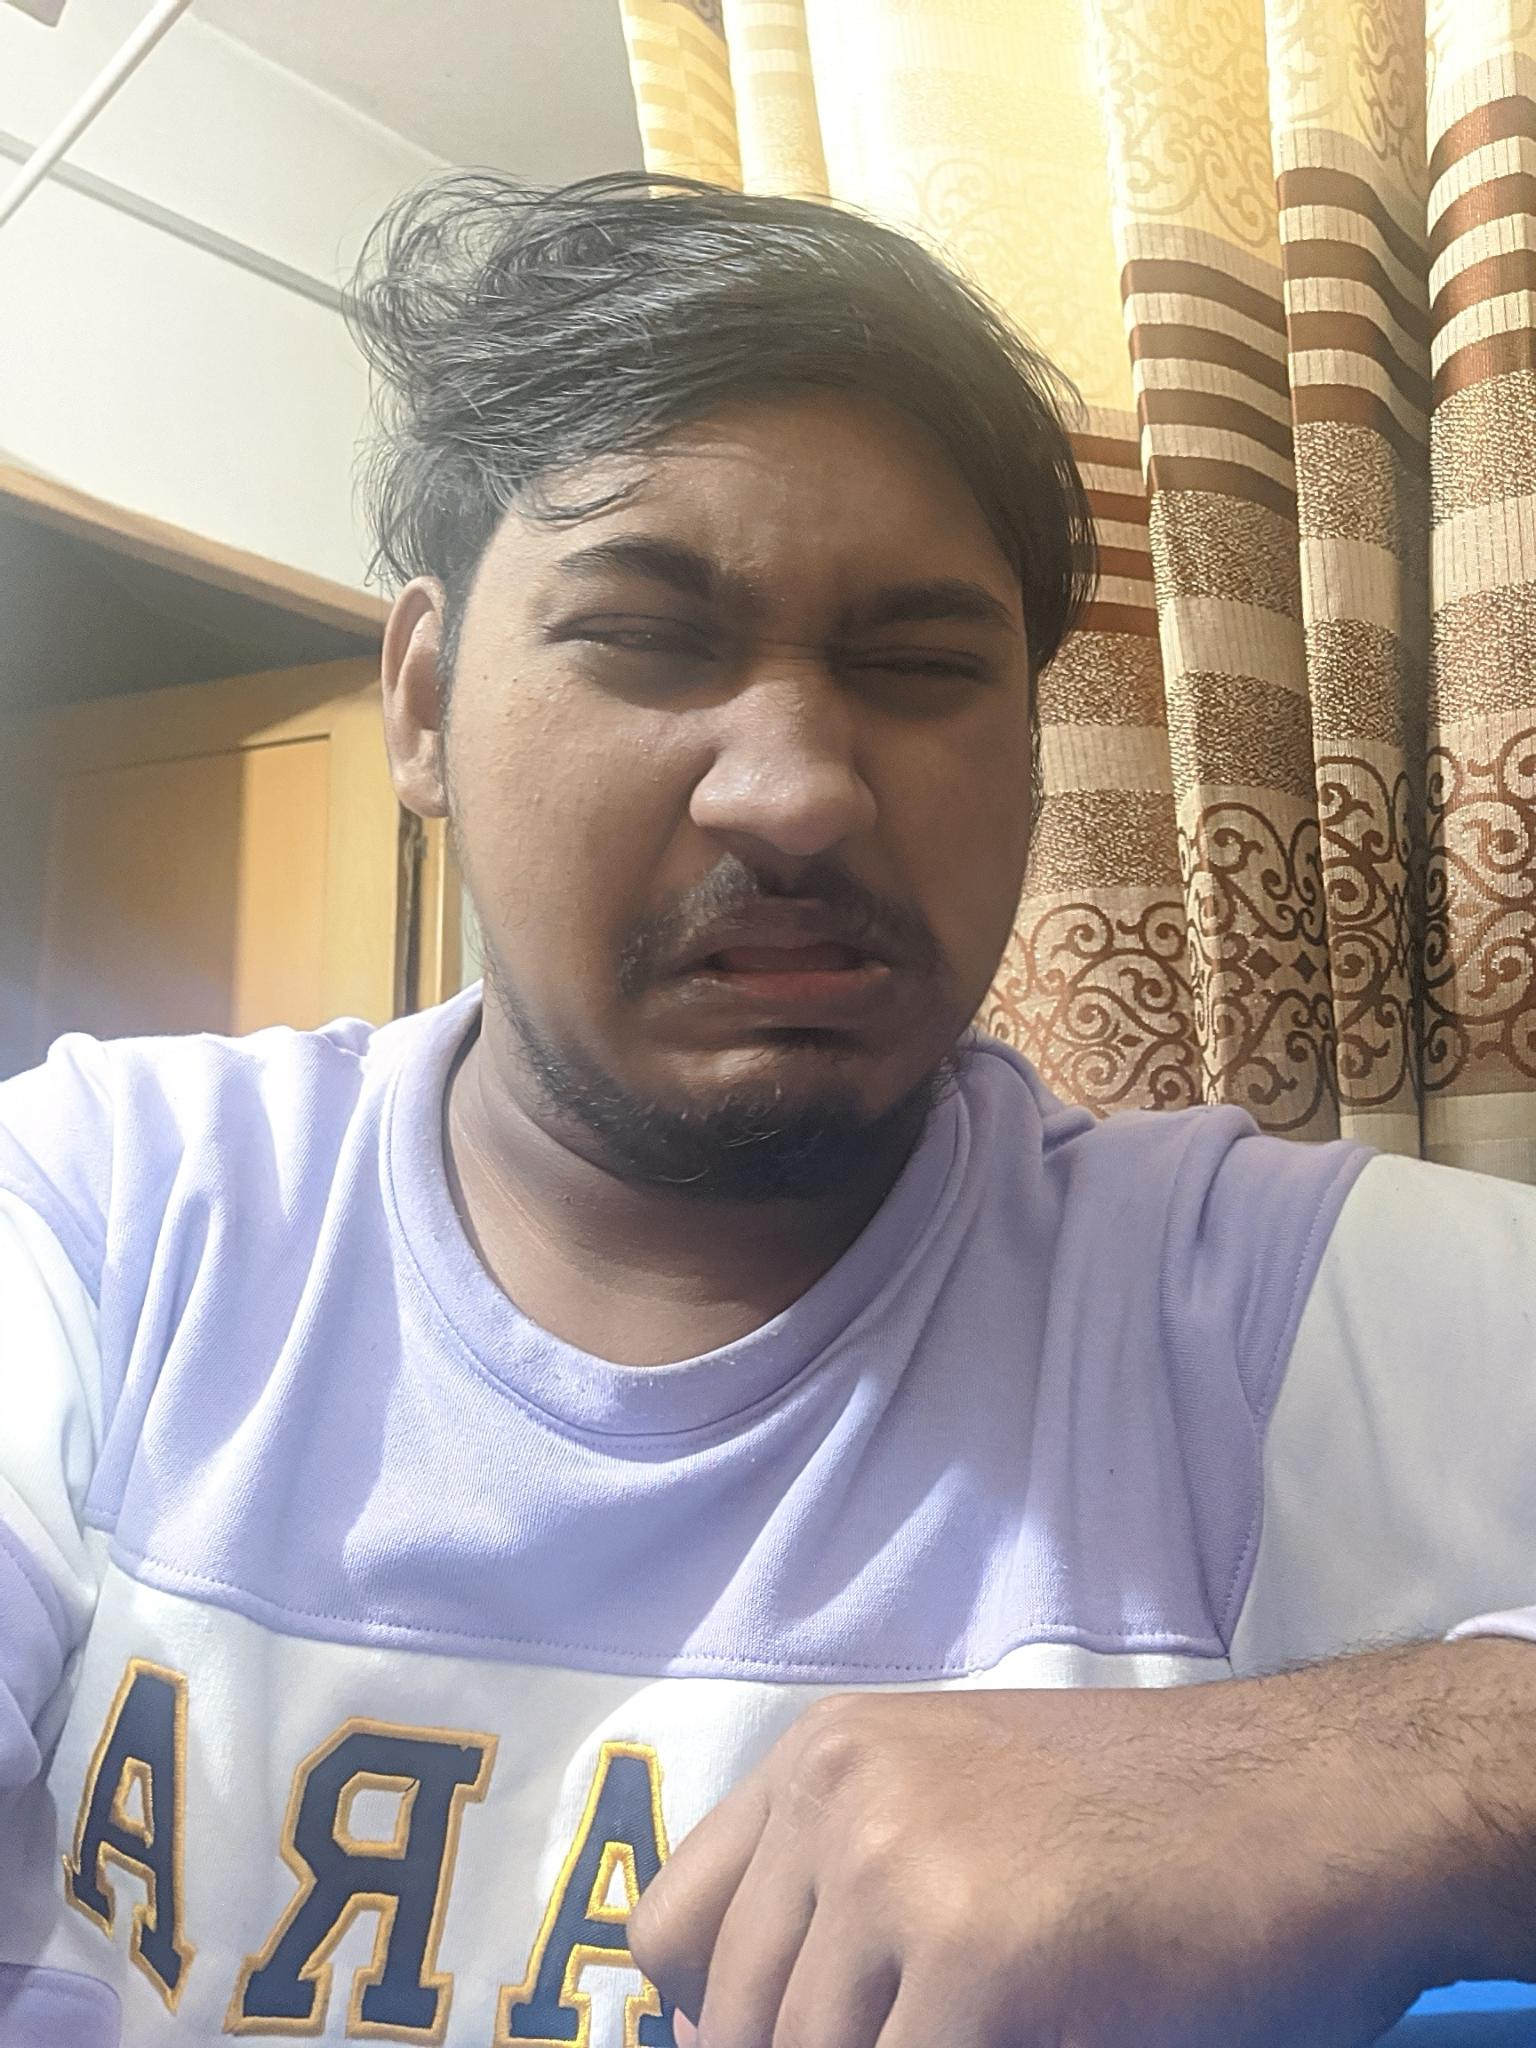Disgust: (460, 432, 1031, 1166)
